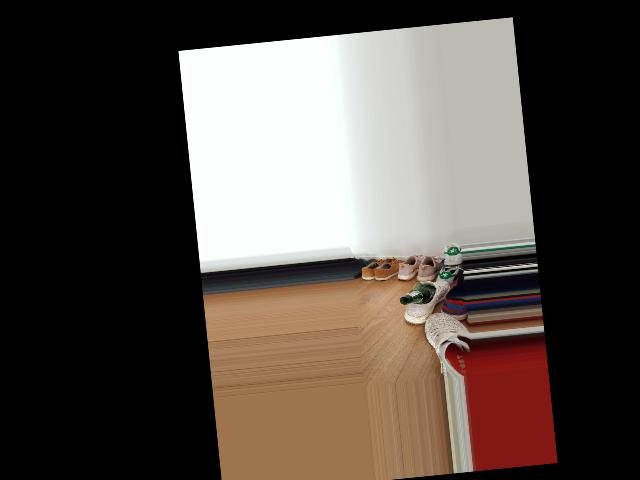beer: (398, 285, 436, 305)
